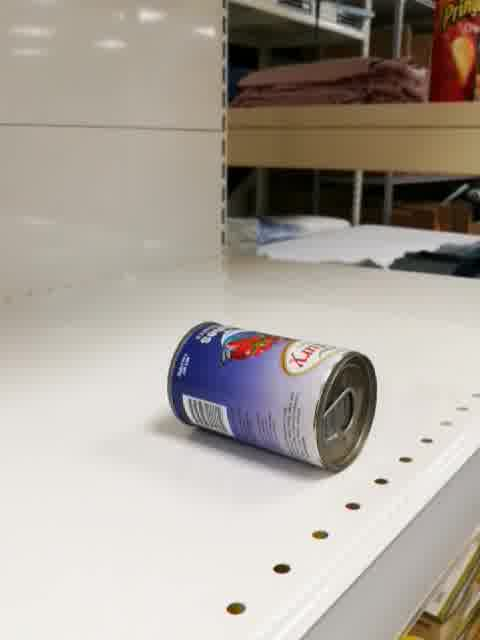sardine: (167, 320, 378, 473)
